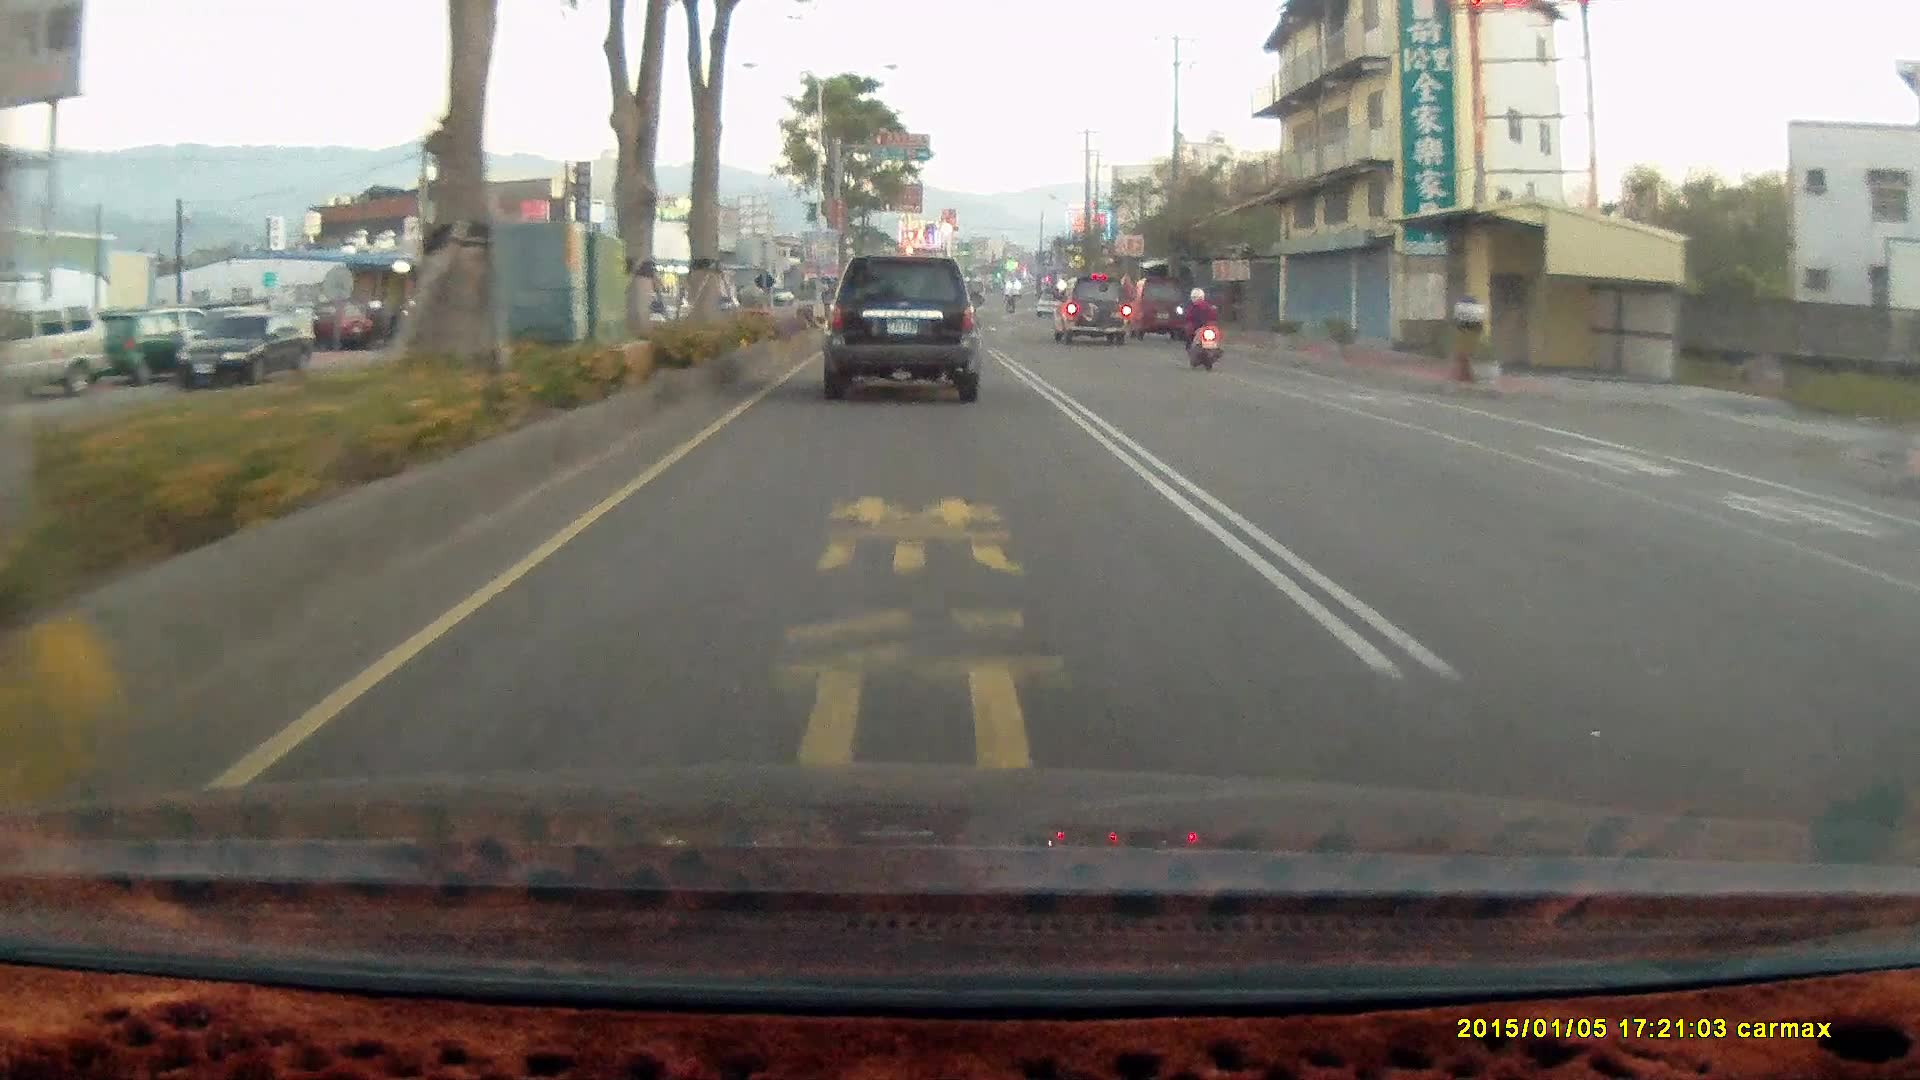rider: (1172, 278, 1230, 378), (1173, 285, 1222, 370)
vehicle: (817, 256, 988, 403), (818, 255, 981, 401), (1, 301, 115, 406), (171, 313, 311, 394), (173, 313, 313, 394), (1059, 277, 1141, 351), (1050, 274, 1131, 344), (1131, 277, 1193, 346), (1128, 276, 1190, 342)
